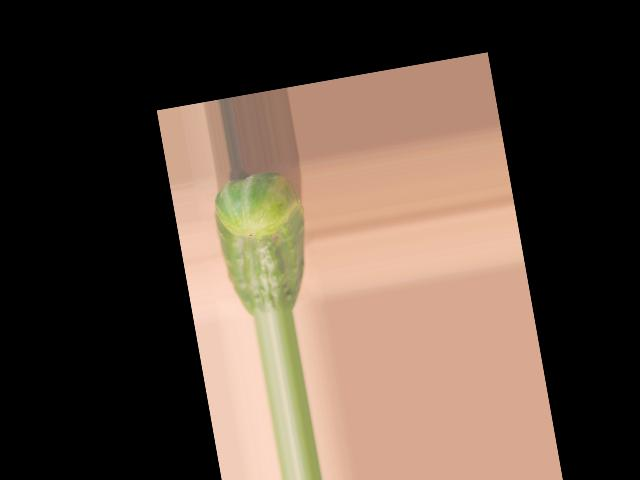cucumber: (208, 167, 319, 320)
